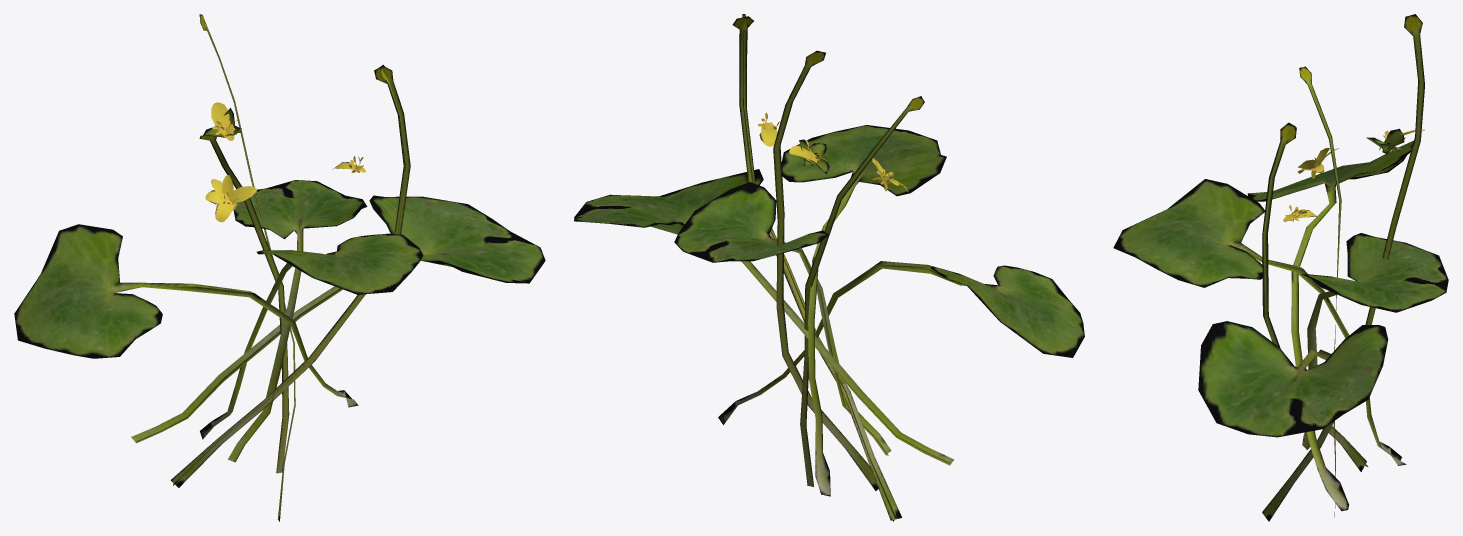
3 renders of one model, left to right at view 1: azimuth 30°, elevation 25°; view 2: azimuth 150°, elevation 25°; view 3: azimuth 270°, elevation 25°, orthographic. The views are drawn at different scales.
Visible parts, largest first — view 1: celandine_01_c_LOD0; view 2: celandine_01_c_LOD0; view 3: celandine_01_c_LOD0.
Boxes of the visible parts, x1,y1,x2,y2 form: celandine_01_c_LOD0: [14, 14, 545, 521]; celandine_01_c_LOD0: [574, 14, 1084, 521]; celandine_01_c_LOD0: [1113, 14, 1448, 521].
Size of the model in its own units: 0.3903 by 0.3534 by 0.2144.
Materials: 1 (1 with a texture image).
